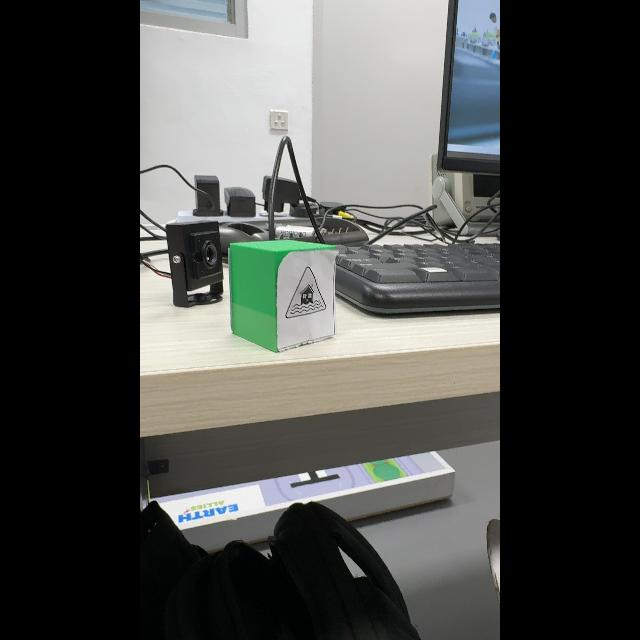Tsunami: (286, 267, 326, 318)
